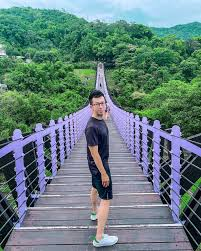people: (82, 89, 120, 247)
